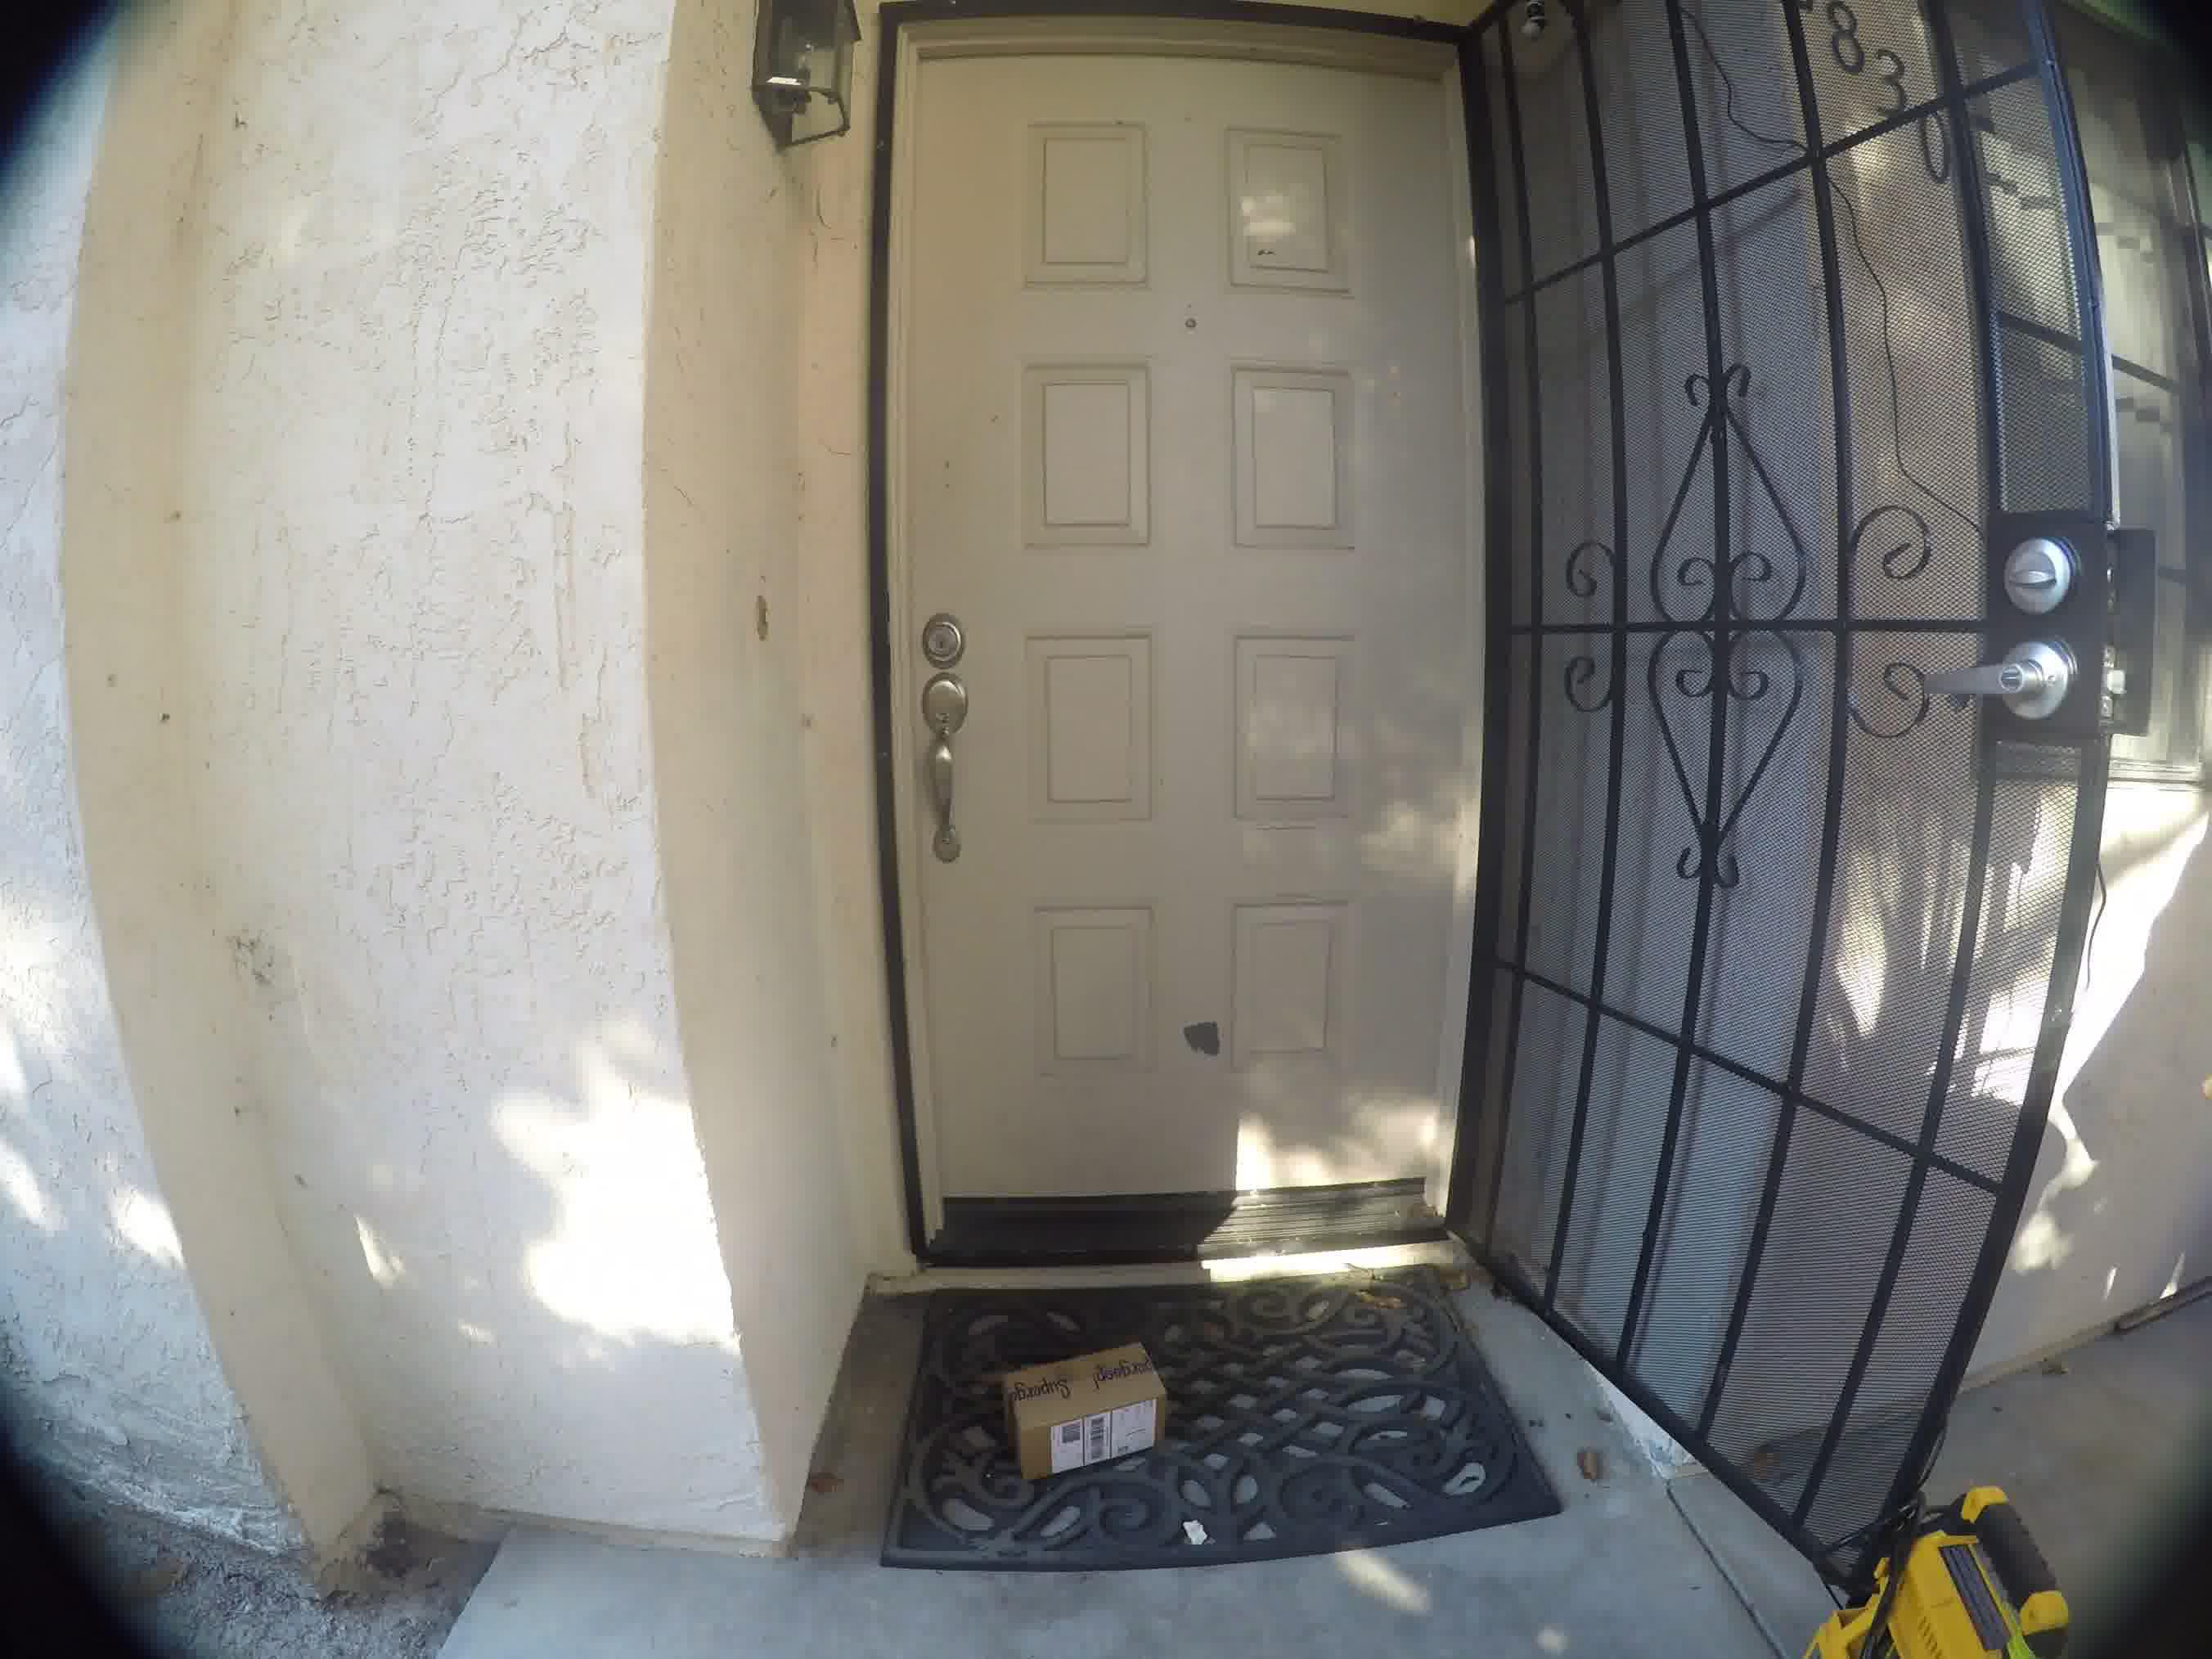box: (989, 1351, 1174, 1471)
